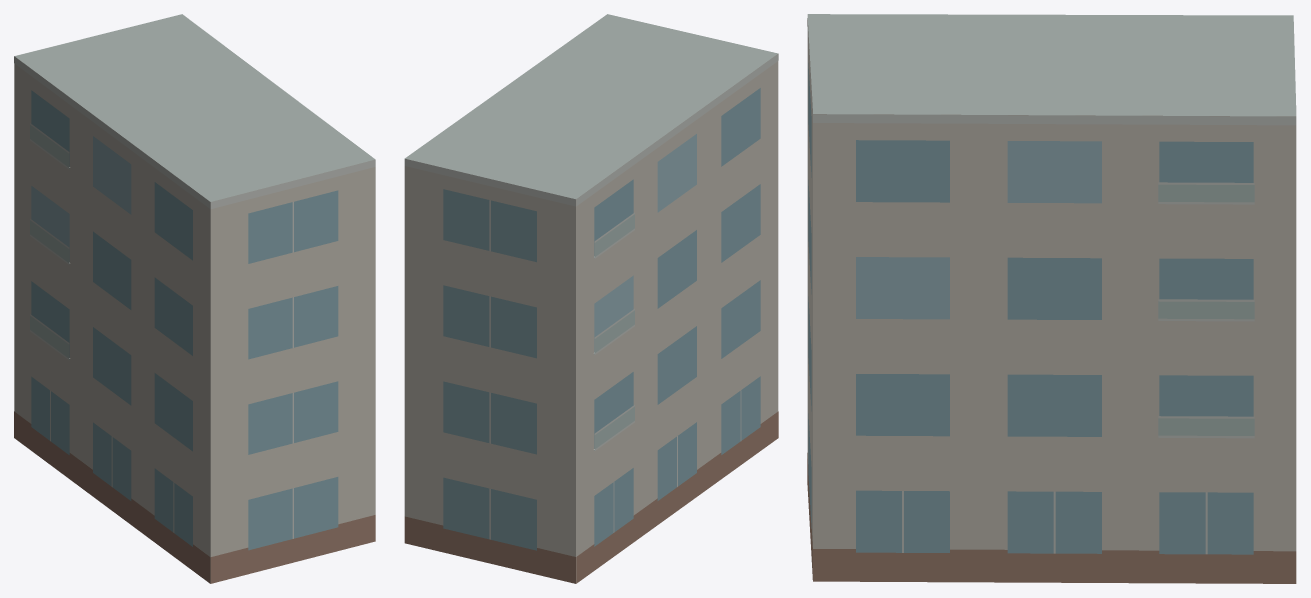
File: survey-upis-32462570.glb
The picture shows the model from 3 angles, left to right: view 1: azimuth 30°, elevation 25°; view 2: azimuth 150°, elevation 25°; view 3: azimuth 270°, elevation 25°; orthographic projection. The views are drawn at different scales.
Visible parts, largest first — view 1: survey-upis-32462570.tmp; view 2: survey-upis-32462570.tmp; view 3: survey-upis-32462570.tmp.
Boxes of the visible parts, <box> form: survey-upis-32462570.tmp: <box>14,14,375,583</box>; survey-upis-32462570.tmp: <box>404,14,778,583</box>; survey-upis-32462570.tmp: <box>807,14,1296,583</box>.
Bounding box in the file's own units: 6.05 × 12.8 × 12.15.
